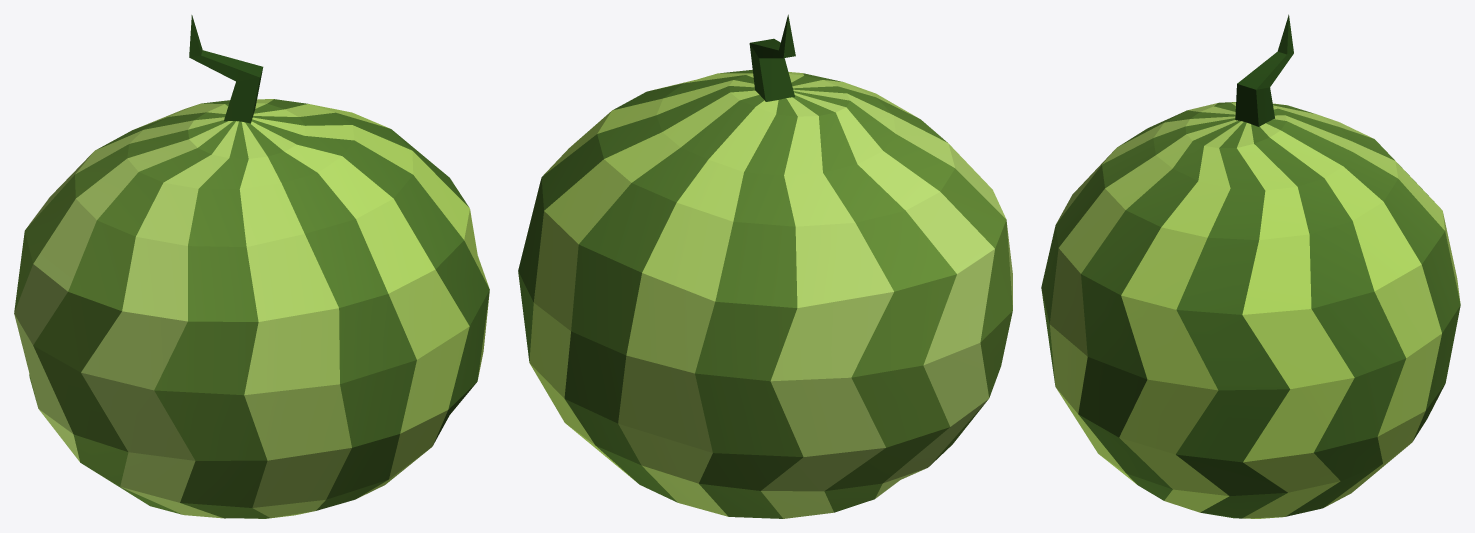
Rendered from watermelon-2.glb.
The picture shows the model from 3 angles, left to right: view 1: azimuth 30°, elevation 25°; view 2: azimuth 150°, elevation 25°; view 3: azimuth 270°, elevation 25°; orthographic projection. The views are drawn at different scales.
Visible parts, largest first — view 1: watermelon 2; view 2: watermelon 2; view 3: watermelon 2.
Part boxes in pixels (box(x1,y1,x2,y2)): watermelon 2: box(14, 15, 489, 518); watermelon 2: box(518, 14, 1012, 518); watermelon 2: box(1041, 14, 1460, 518).
Size of the model in its own units: 0.461 by 0.5039 by 0.4199.
1 material, 1 textured.
